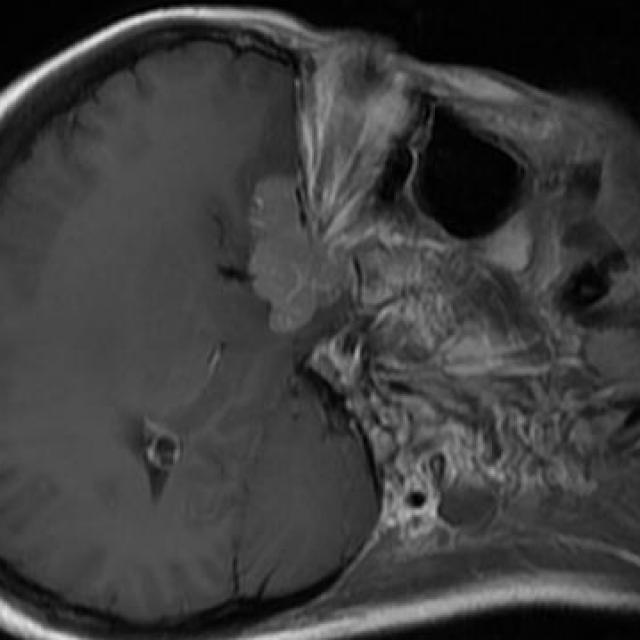meningioma: (248, 175, 348, 333)
